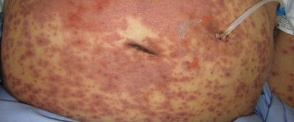SJS-TEN: (0, 0, 265, 122)
